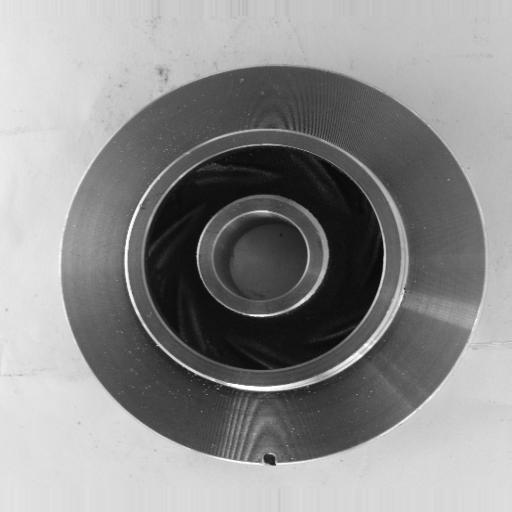pit: (249, 442, 287, 473)
unpolished_casting: (62, 61, 485, 467)
